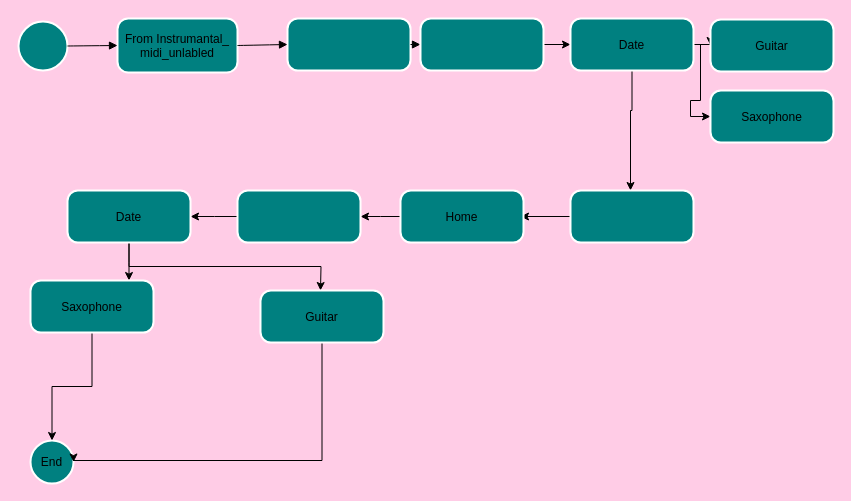
Some shapes in this 851 by 501 pixel diagram are drawn without their labels. The centre of each missing label's shape, as x and y in pixels:
Annotation_Dataset: (298,216)
annotations: (348,44)
GPU: (631,216)
Kartik_codes: (481,44)
Start: (42,45)
